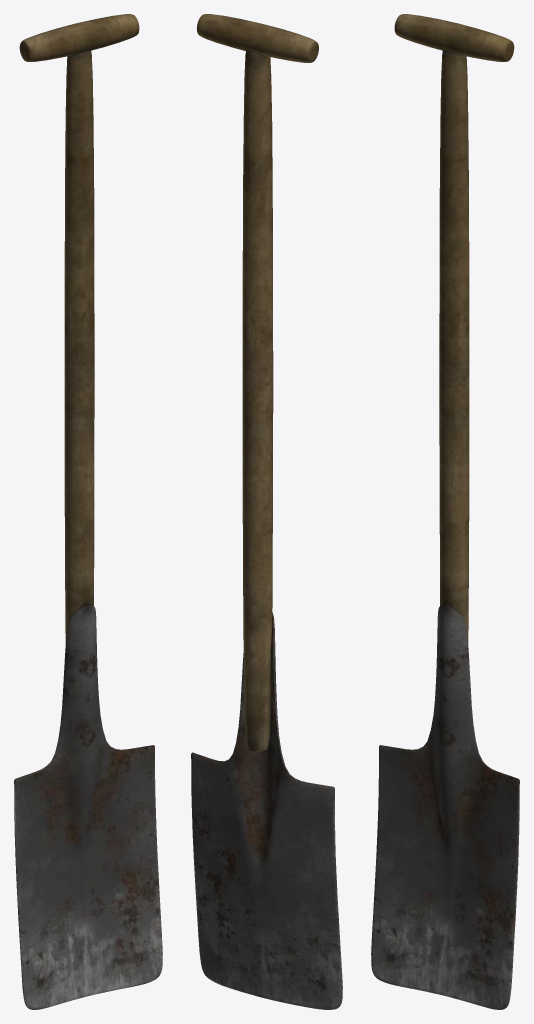
File: rusted_spade_01.glb
3 renders of one model, left to right at view 1: azimuth 30°, elevation 25°; view 2: azimuth 150°, elevation 25°; view 3: azimuth 330°, elevation 25°, orthographic. The views are drawn at different scales.
Parts seen in each view (by area): view 1: rusted_spade_01; view 2: rusted_spade_01; view 3: rusted_spade_01.
Boxes of the visible parts, x1=… form: rusted_spade_01: x1=14, y1=14, x2=162, y2=1009; rusted_spade_01: x1=191, y1=14, x2=342, y2=1009; rusted_spade_01: x1=371, y1=14, x2=519, y2=1009.
Bounding box in the file's own units: 0.1681 × 1.1 × 0.0456.
Materials: 1 (1 with a texture image).
